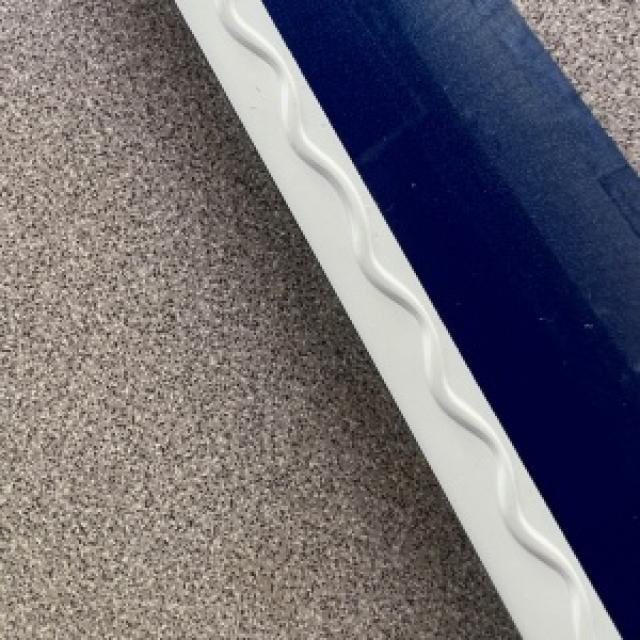healthy: (0, 0, 516, 638), (177, 0, 638, 638), (179, 0, 567, 638)
